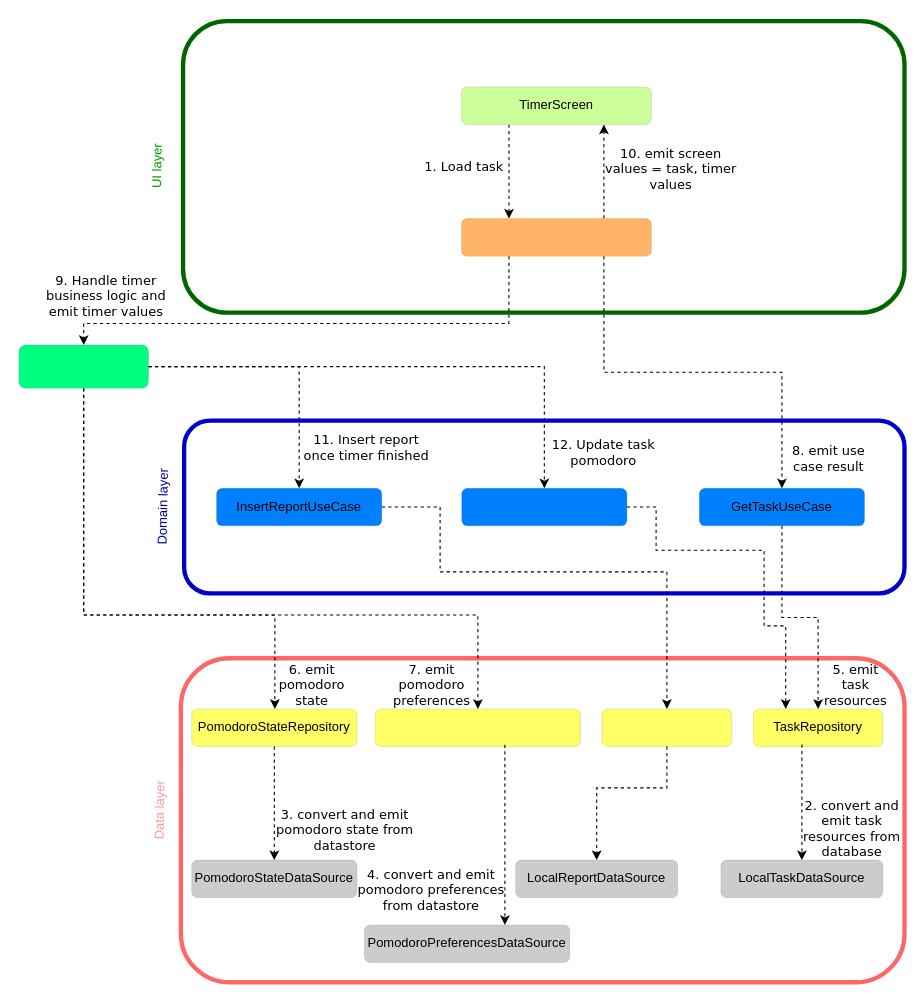
Some shapes in this 924 by 1002 pixel diagram are drawn without their labels. Here are the shapes that lost their labels. From the top down, the centre of each, then its label:
At point 556,237: "TimerViewModel".
At point 83,366: "TimerManager".
At point 543,506: "UpsertTaskUseCase".
At point 477,727: "PomodoroPreferencesRepository".
At point 666,727: "ReportRepository".
